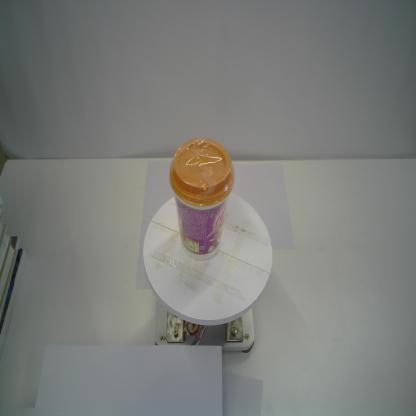Instant Drink: (167, 136, 236, 260)
